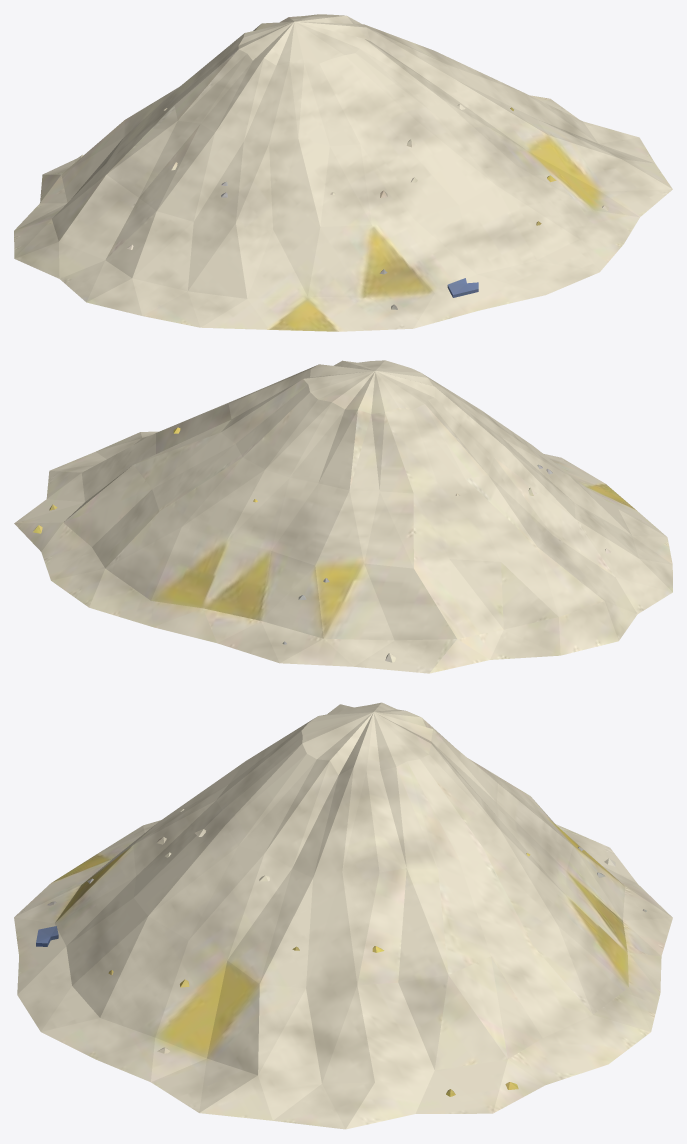
Rendered from CS06_sand_piles_v1.glb.
The picture shows the model from 3 angles, top to bottom: view 1: azimuth 30°, elevation 25°; view 2: azimuth 150°, elevation 25°; view 3: azimuth 270°, elevation 25°; orthographic projection. The views are drawn at different scales.
Visible parts, largest first — view 1: Pale Sand Heap; view 2: Pale Sand Heap; view 3: Pale Sand Heap.
Part boxes in pixels (x1=…): Pale Sand Heap: x1=14, y1=14, x2=672, y2=331; Pale Sand Heap: x1=14, y1=360, x2=672, y2=673; Pale Sand Heap: x1=14, y1=702, x2=672, y2=1129.
Bounding box in the file's own units: 2 × 0.6072 × 1.62.
Materials: 4 (4 with a texture image).
